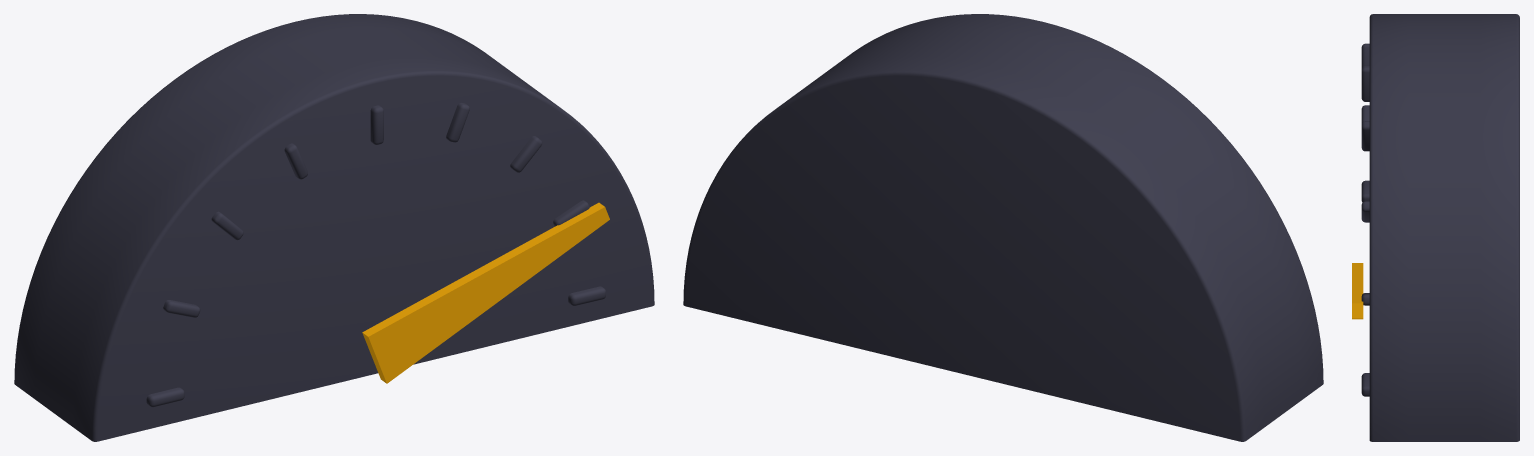
Rendered from accelerometer.gltf.
The picture shows the model from 3 angles, left to right: view 1: azimuth 30°, elevation 25°; view 2: azimuth 150°, elevation 25°; view 3: azimuth 270°, elevation 25°; orthographic projection. The views are drawn at different scales.
Parts seen in each view (by area): view 1: Cylinder, Extrude; view 2: Cylinder; view 3: Cylinder, Extrude, Cube 4, Cube 5, Cube 8, Cube 3, Cube 0, Cube 6.
Boxes of the visible parts, x1=… form: Cylinder: x1=14, y1=14, x2=654, y2=441; Extrude: x1=362, y1=202, x2=609, y2=383; Cylinder: x1=683, y1=14, x2=1323, y2=441; Cylinder: x1=1369, y1=14, x2=1519, y2=441; Extrude: x1=1352, y1=263, x2=1363, y2=319; Cube 4: x1=1361, y1=65, x2=1369, y2=101; Cube 5: x1=1361, y1=121, x2=1369, y2=151; Cube 8: x1=1361, y1=373, x2=1369, y2=396; Cube 3: x1=1361, y1=43, x2=1369, y2=68; Cube 0: x1=1361, y1=180, x2=1369, y2=202; Cube 6: x1=1361, y1=201, x2=1369, y2=222.
Bounding box in the file's own units: 160 × 80.97 × 44.65.
